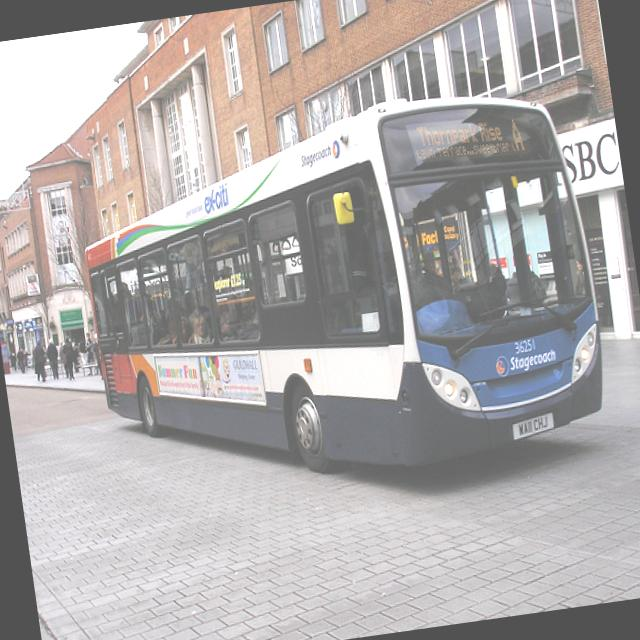Vehicle: (63, 72, 618, 514)
